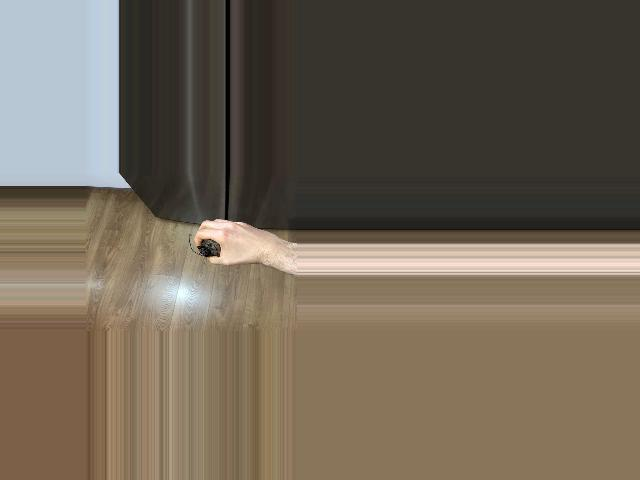beet: (187, 233, 220, 257)
